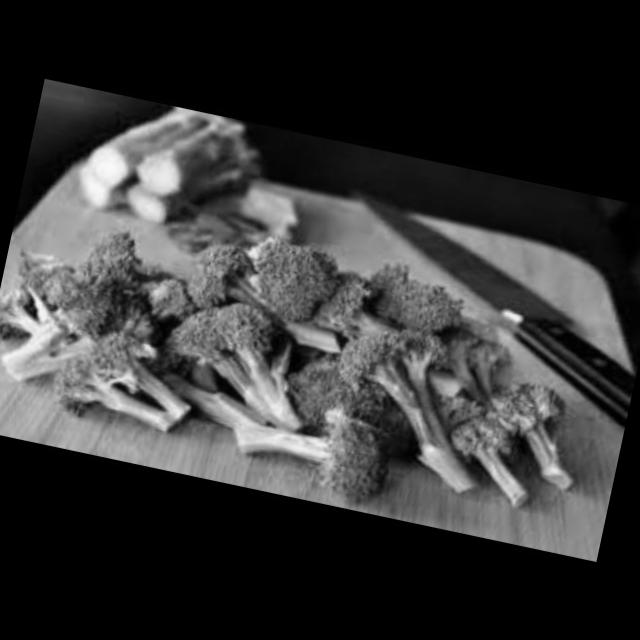broccoli: (0, 172, 618, 553)
